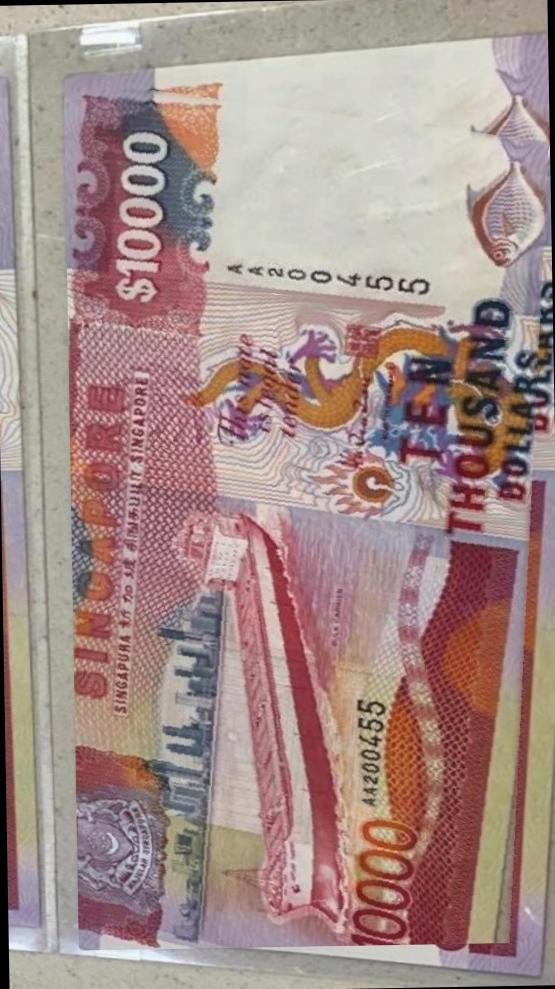10000SingaporeDollar: (63, 70, 555, 950)
